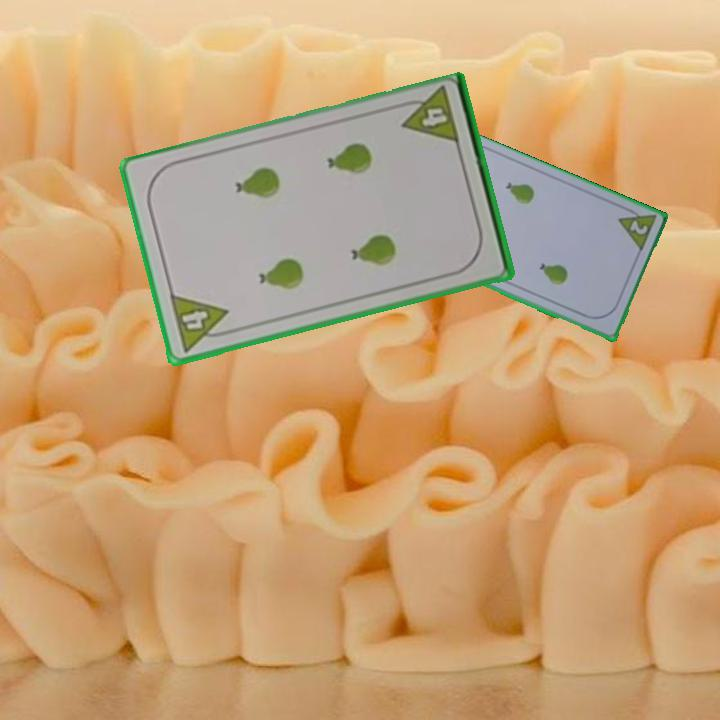2p: (613, 202, 659, 256)
4p: (394, 84, 463, 149), (166, 291, 236, 355)
